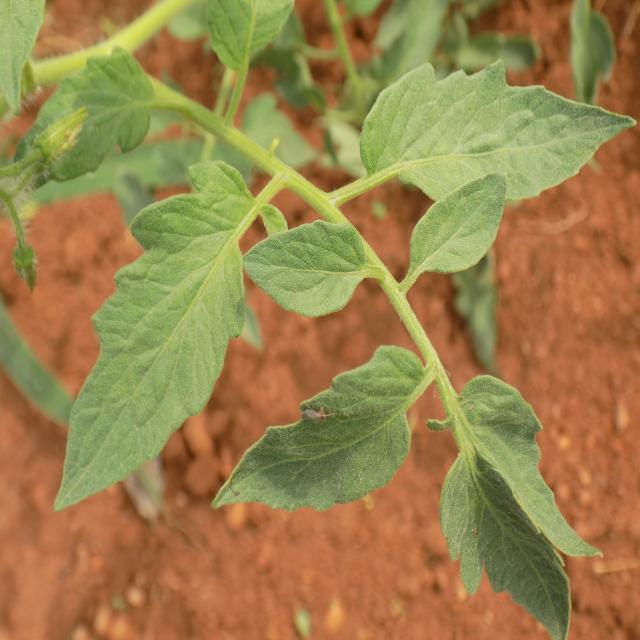tomato_healthy: (57, 157, 242, 512), (442, 377, 600, 640), (357, 58, 637, 204), (215, 346, 431, 515), (238, 219, 368, 318), (405, 176, 520, 273)
